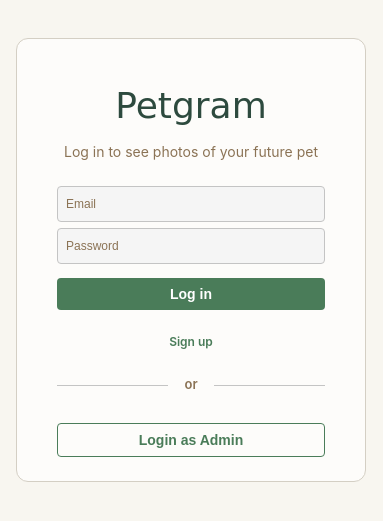
Login Page › shows error for empty email
Click the button "Log in" at (191, 294), box [57,278,325,310]
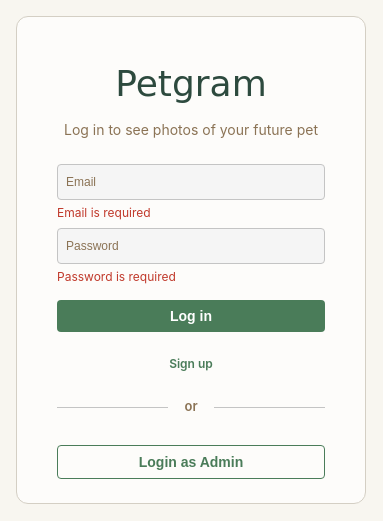
expect the text "Email is required" is shown: met, box [57,205,151,220]
